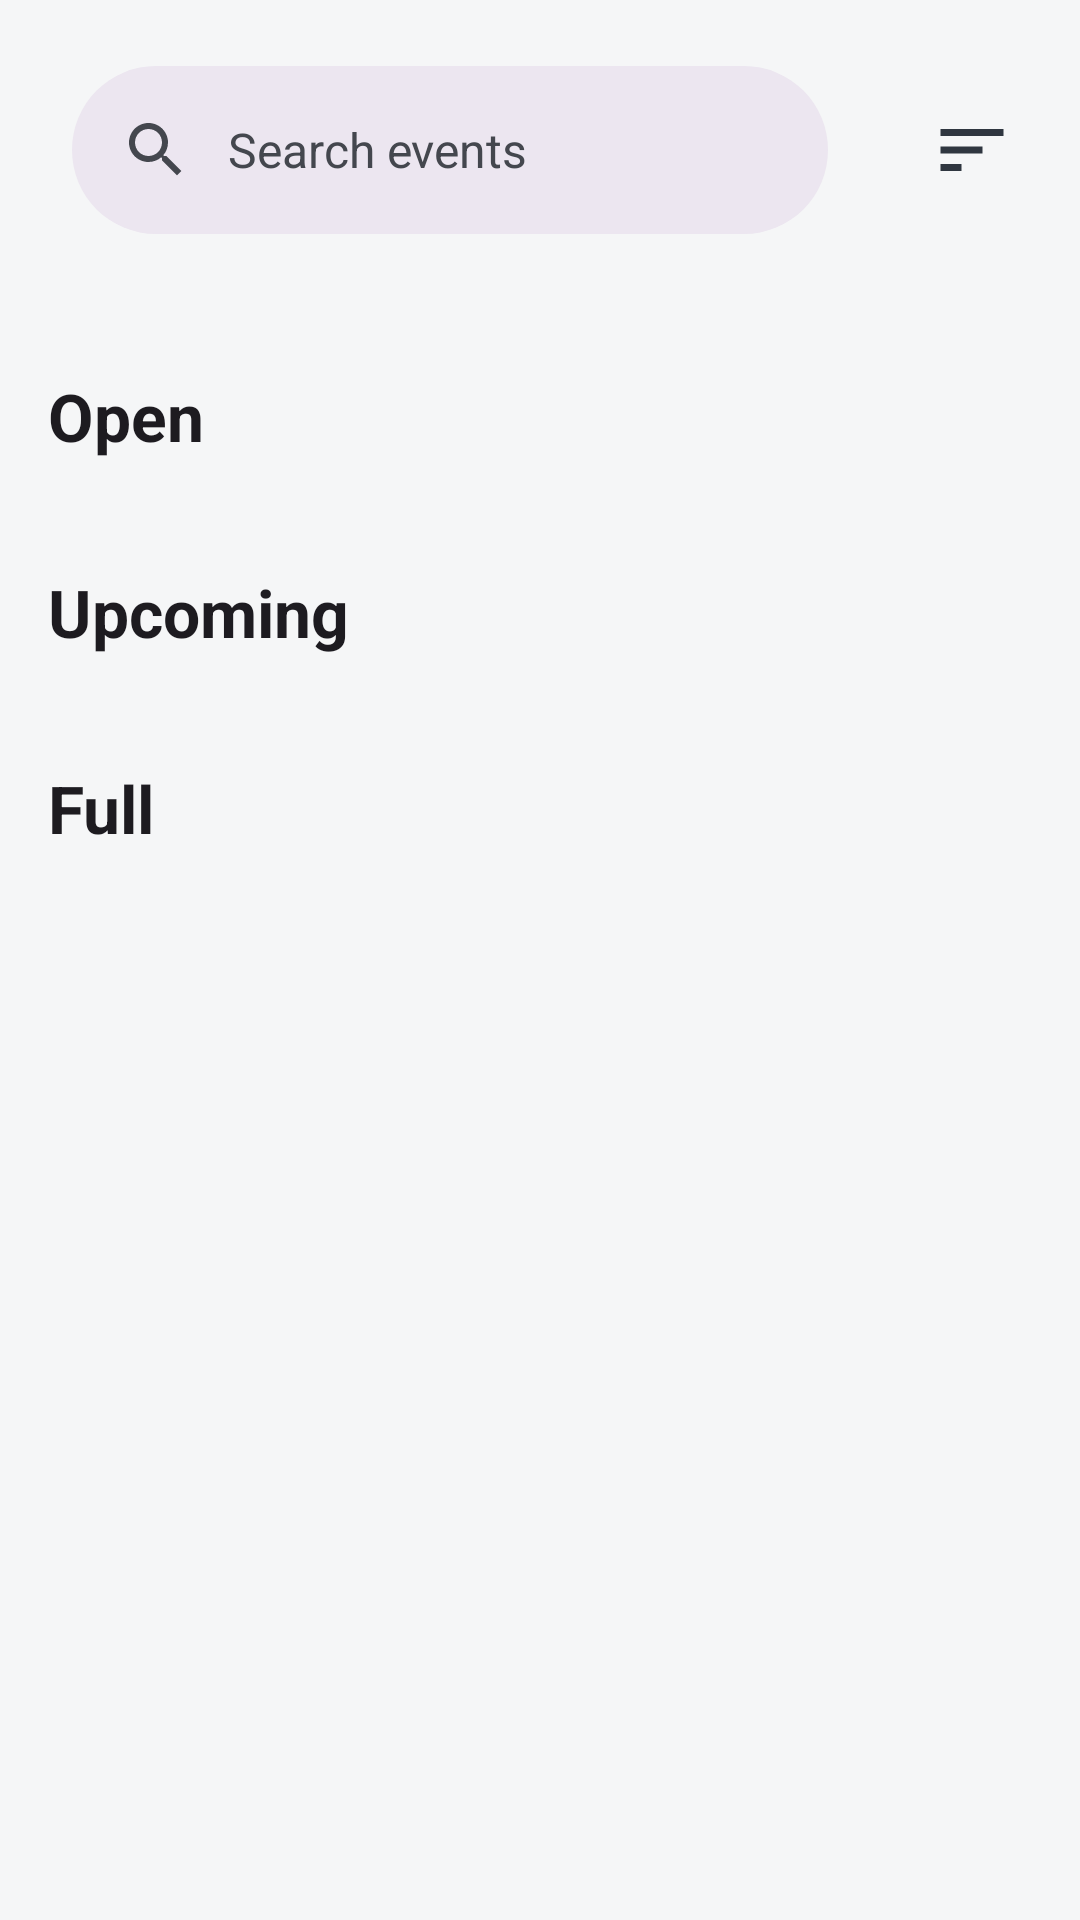

Named icons in this screenshot (1080*1920) and their bounding boxes, (x1, y1, x2, y2):
Filters: (940, 129, 1004, 171)
